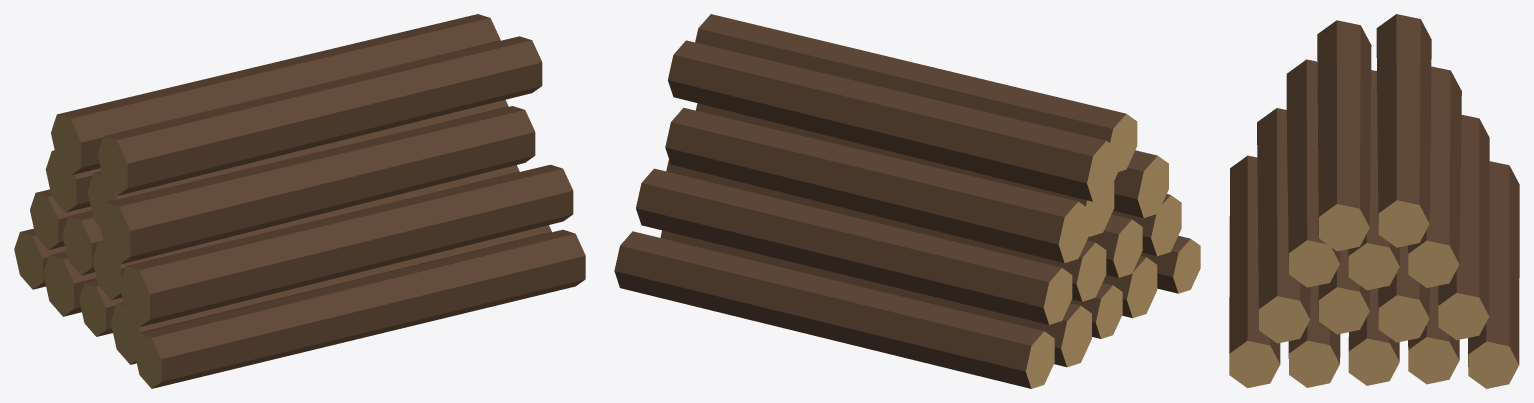
The model's file is UM_Holzstapel.fbx.
The picture shows the model from 3 angles, left to right: view 1: azimuth 30°, elevation 25°; view 2: azimuth 150°, elevation 25°; view 3: azimuth 270°, elevation 25°; orthographic projection. The views are drawn at different scales.
Parts seen in each view (by area): view 1: UM_Holzstapel; view 2: UM_Holzstapel; view 3: UM_Holzstapel.
Boxes of the visible parts, bbox=[...] form: UM_Holzstapel: bbox=[14, 14, 585, 388]; UM_Holzstapel: bbox=[614, 14, 1200, 388]; UM_Holzstapel: bbox=[1229, 14, 1519, 388].
Size of the model in its own units: 2.54 by 1.2 by 1.65.
